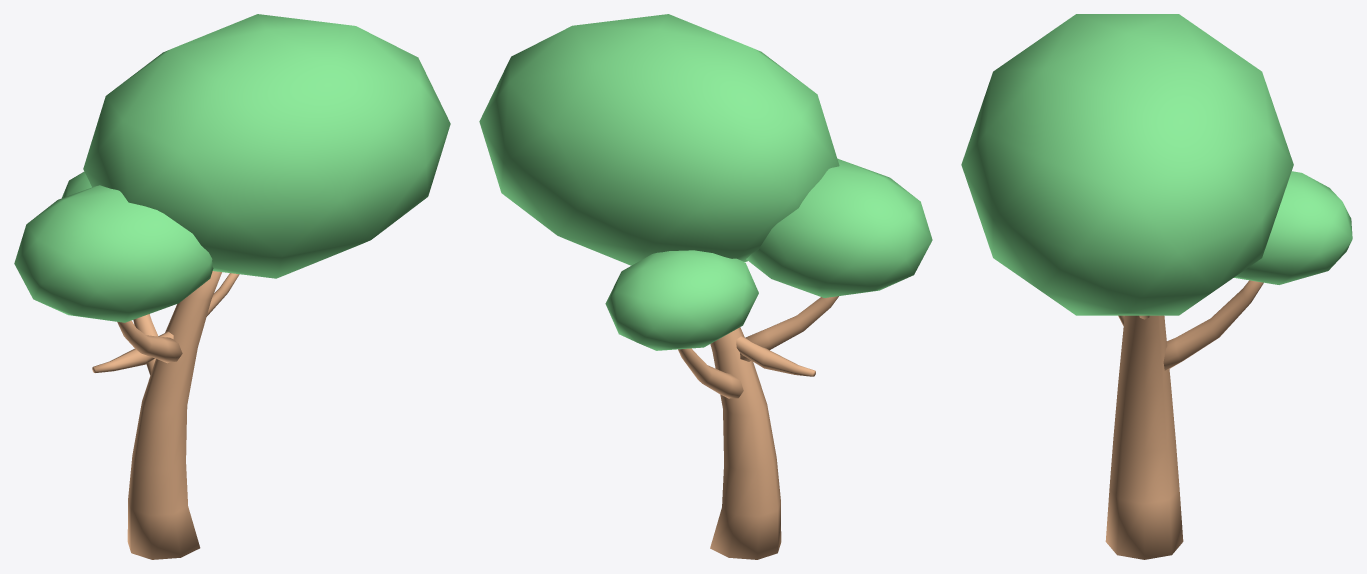
The model's file is Pohon_3.fbx.
3 views of the same model, side by side, from view 1: azimuth 30°, elevation 25°; view 2: azimuth 150°, elevation 25°; view 3: azimuth 270°, elevation 25° (orthographic). The views are drawn at different scales.
Visible parts, largest first — view 1: Tree 4; view 2: Tree 4; view 3: Tree 4.
Part boxes in pixels (x1,y1,x2,y2): Tree 4: (14,14,450,559); Tree 4: (479,14,932,559); Tree 4: (961,14,1352,559).
Bounding box in the file's own units: 1013 × 1164 × 737.
